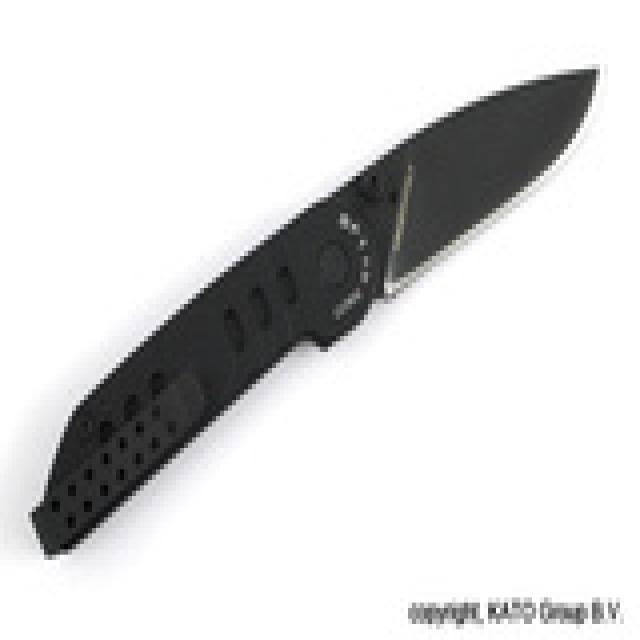Knife: (22, 67, 604, 567)
